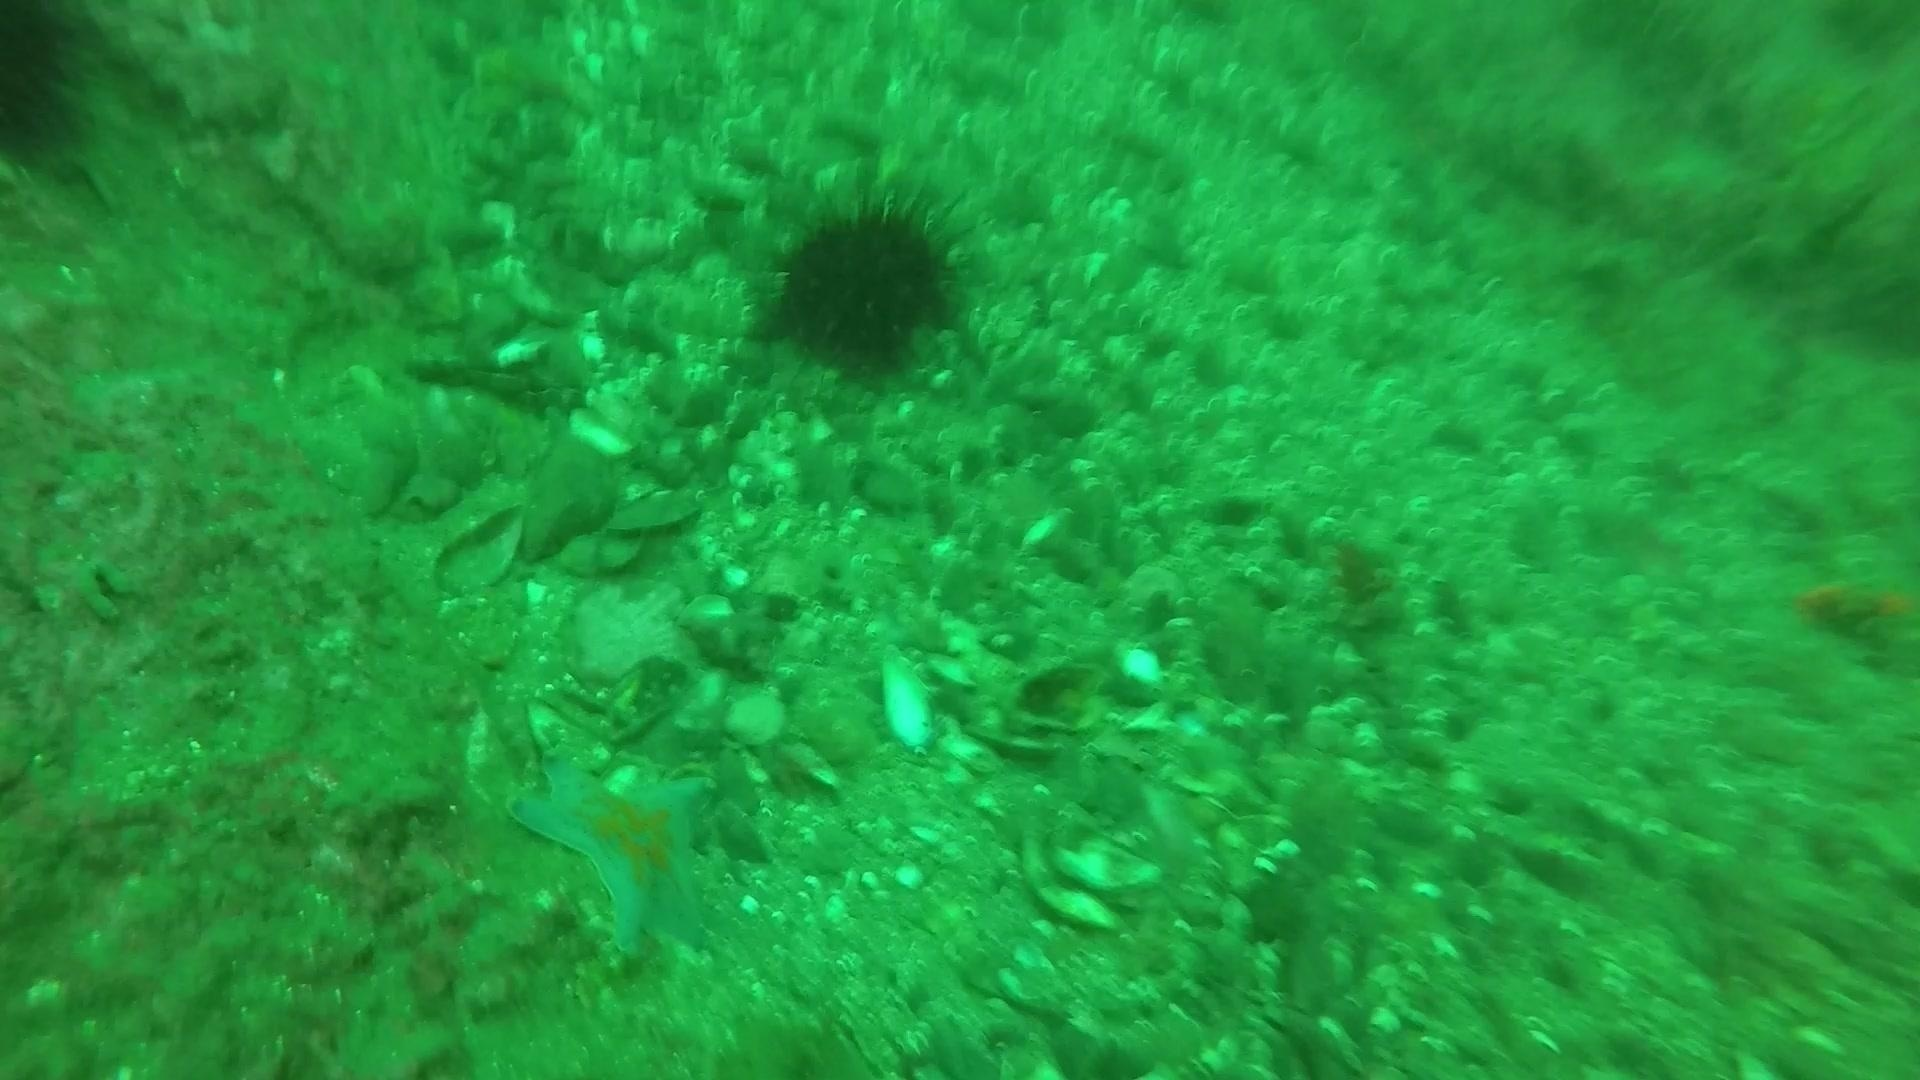echinus: (754, 183, 975, 384), (0, 0, 98, 171)
starfish: (502, 742, 724, 967)
